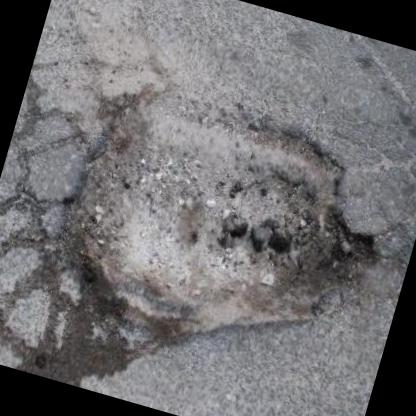pothole: (28, 65, 406, 398)
